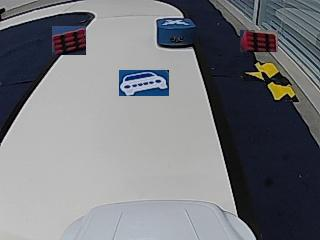prop: (157, 18, 197, 48)
